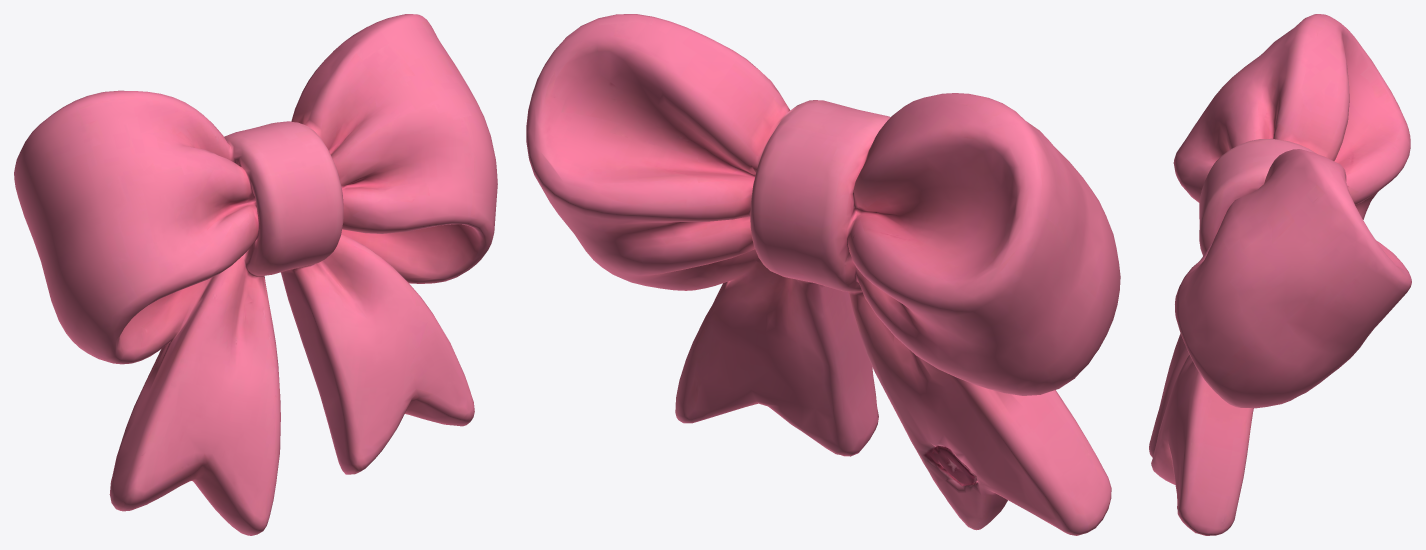
3 views of the same model, side by side, from view 1: azimuth 30°, elevation 25°; view 2: azimuth 150°, elevation 25°; view 3: azimuth 270°, elevation 25° (orthographic). The views are drawn at different scales.
Visible parts, largest first — view 1: mane-bow; view 2: mane-bow; view 3: mane-bow.
Boxes of the visible parts, x1,y1,x2,y2 form: mane-bow: (14, 14, 497, 535); mane-bow: (526, 14, 1120, 535); mane-bow: (1149, 14, 1411, 535).
Size of the model in its own units: 0.1748 by 0.1633 by 0.0937.
1 material, 1 textured.
